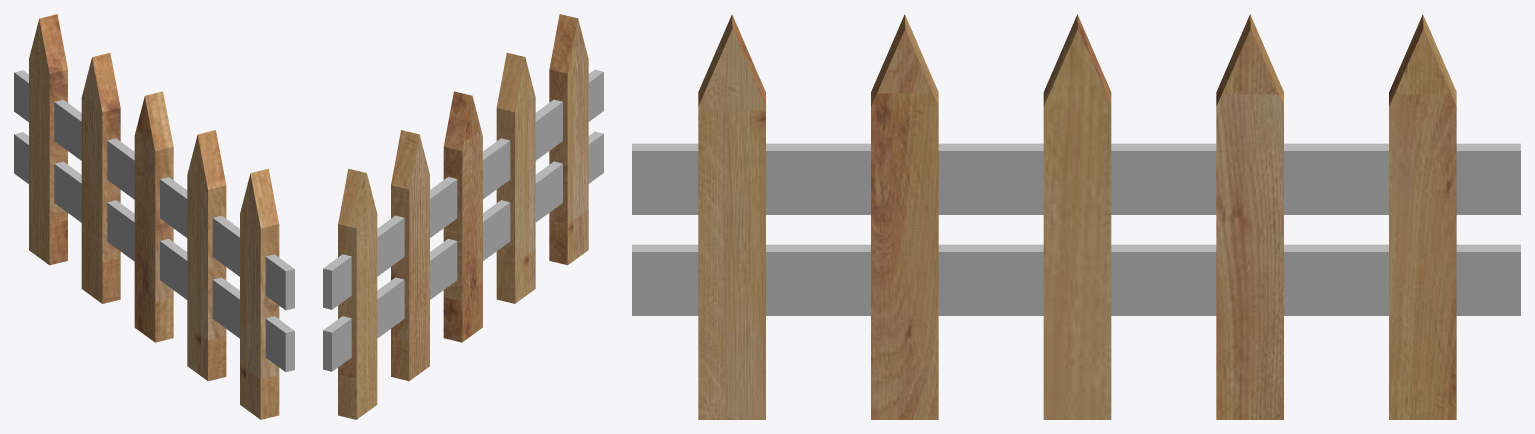
File: cerca2.fbx
3 renders of one model, left to right at view 1: azimuth 30°, elevation 25°; view 2: azimuth 150°, elevation 25°; view 3: azimuth 270°, elevation 25°, orthographic. The views are drawn at different scales.
Visible parts, largest first — view 1: Cube, Plane; view 2: Cube, Plane; view 3: Cube, Plane.
Part boxes in pixels (x1,y1,x2,y2): Cube: (29,14,279,419); Plane: (14,70,294,371); Cube: (338,14,588,419); Plane: (323,69,603,371); Cube: (698,14,1456,419); Plane: (632,143,1520,315).
Bounding box in the file's own units: 0.2011 × 2.5 × 5.15.
